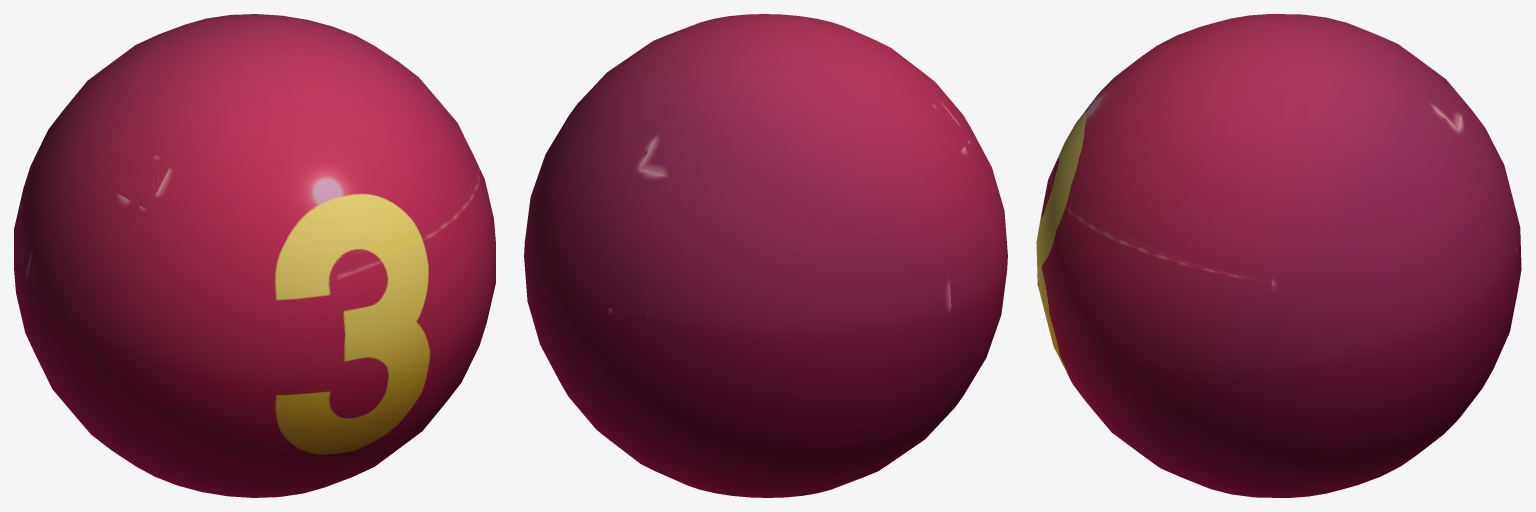
Rendered from Enemy 3.fbx.
3 renders of one model, left to right at view 1: azimuth 30°, elevation 25°; view 2: azimuth 150°, elevation 25°; view 3: azimuth 270°, elevation 25°, orthographic.
Visible parts, largest first — view 1: Body 1.002; view 2: Body 1.002; view 3: Body 1.002.
Boxes of the visible parts, x1,y1,x2,y2 form: Body 1.002: [14, 14, 495, 497]; Body 1.002: [524, 14, 1007, 497]; Body 1.002: [1036, 14, 1521, 497].
Bounding box in the file's own units: 474 × 474 × 474.
Materials: 1 (1 with a texture image).
